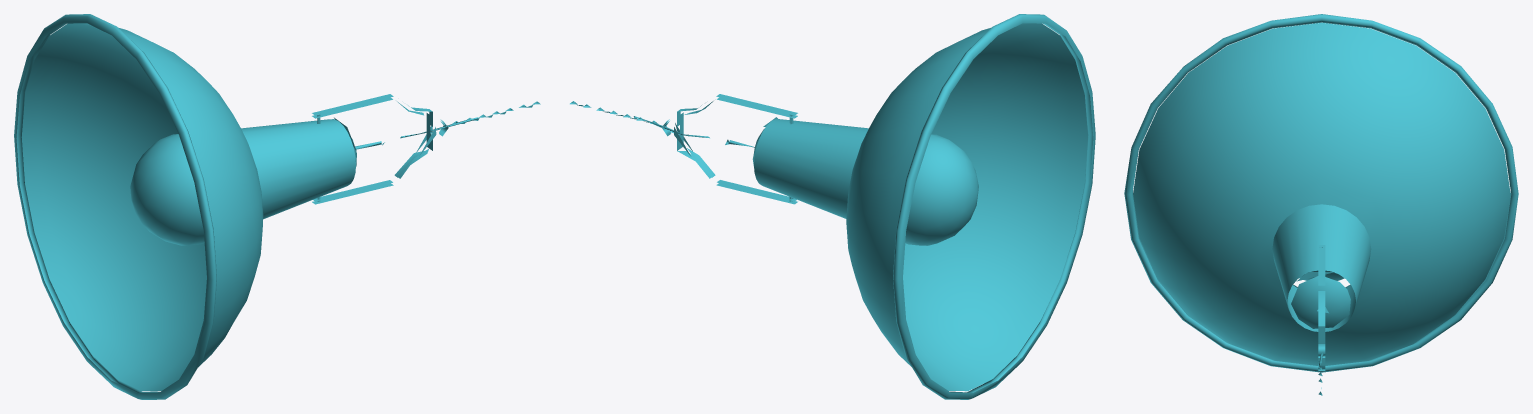
The picture shows the model from 3 angles, left to right: view 1: azimuth 30°, elevation 25°; view 2: azimuth 150°, elevation 25°; view 3: azimuth 270°, elevation 25°; orthographic projection.
Parts seen in each view (by area): view 1: Renderer Node; view 2: Renderer Node; view 3: Renderer Node.
Boxes of the visible parts, x1,y1,x2,y2 form: Renderer Node: (14, 14, 540, 399); Renderer Node: (570, 14, 1095, 399); Renderer Node: (1124, 14, 1518, 395).
Bounding box in the file's own units: 0.6562 × 0.5262 × 0.5263.
Materials: 1 (1 with a texture image).
